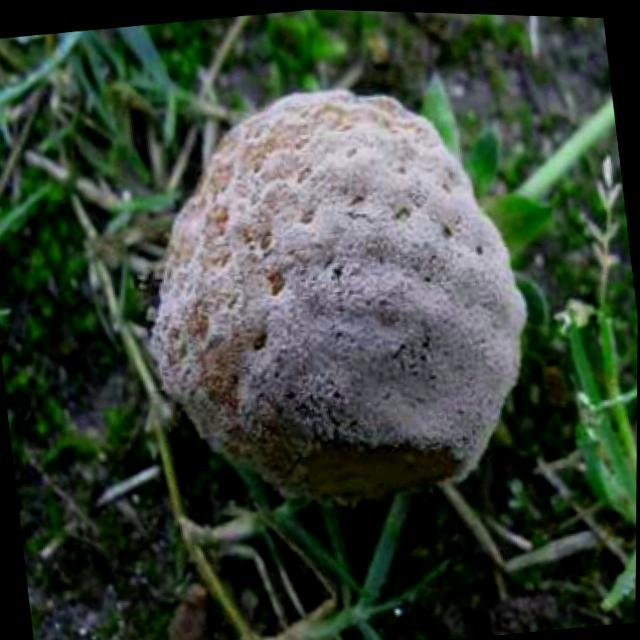Gray Mold: (146, 84, 525, 500)
